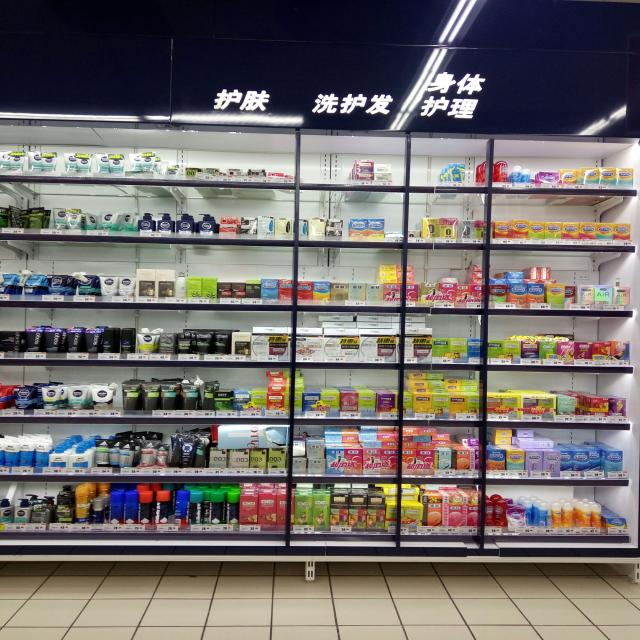unorganised: (168, 162, 294, 185), (1, 146, 89, 176), (98, 435, 167, 470), (52, 205, 136, 232), (208, 425, 291, 448), (109, 491, 152, 525), (169, 431, 207, 468), (492, 428, 557, 449), (203, 491, 240, 524), (127, 151, 167, 177), (1, 206, 51, 226), (91, 153, 126, 177), (39, 385, 66, 411), (422, 494, 442, 528), (173, 492, 189, 528), (75, 485, 90, 523), (561, 503, 576, 531), (513, 165, 530, 187), (564, 284, 578, 303), (525, 504, 536, 527)
